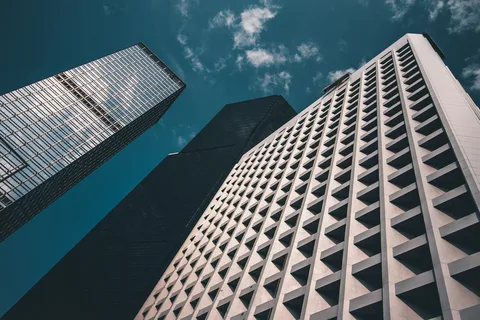high_rise_building: (207, 77, 346, 318), (51, 24, 179, 145)
